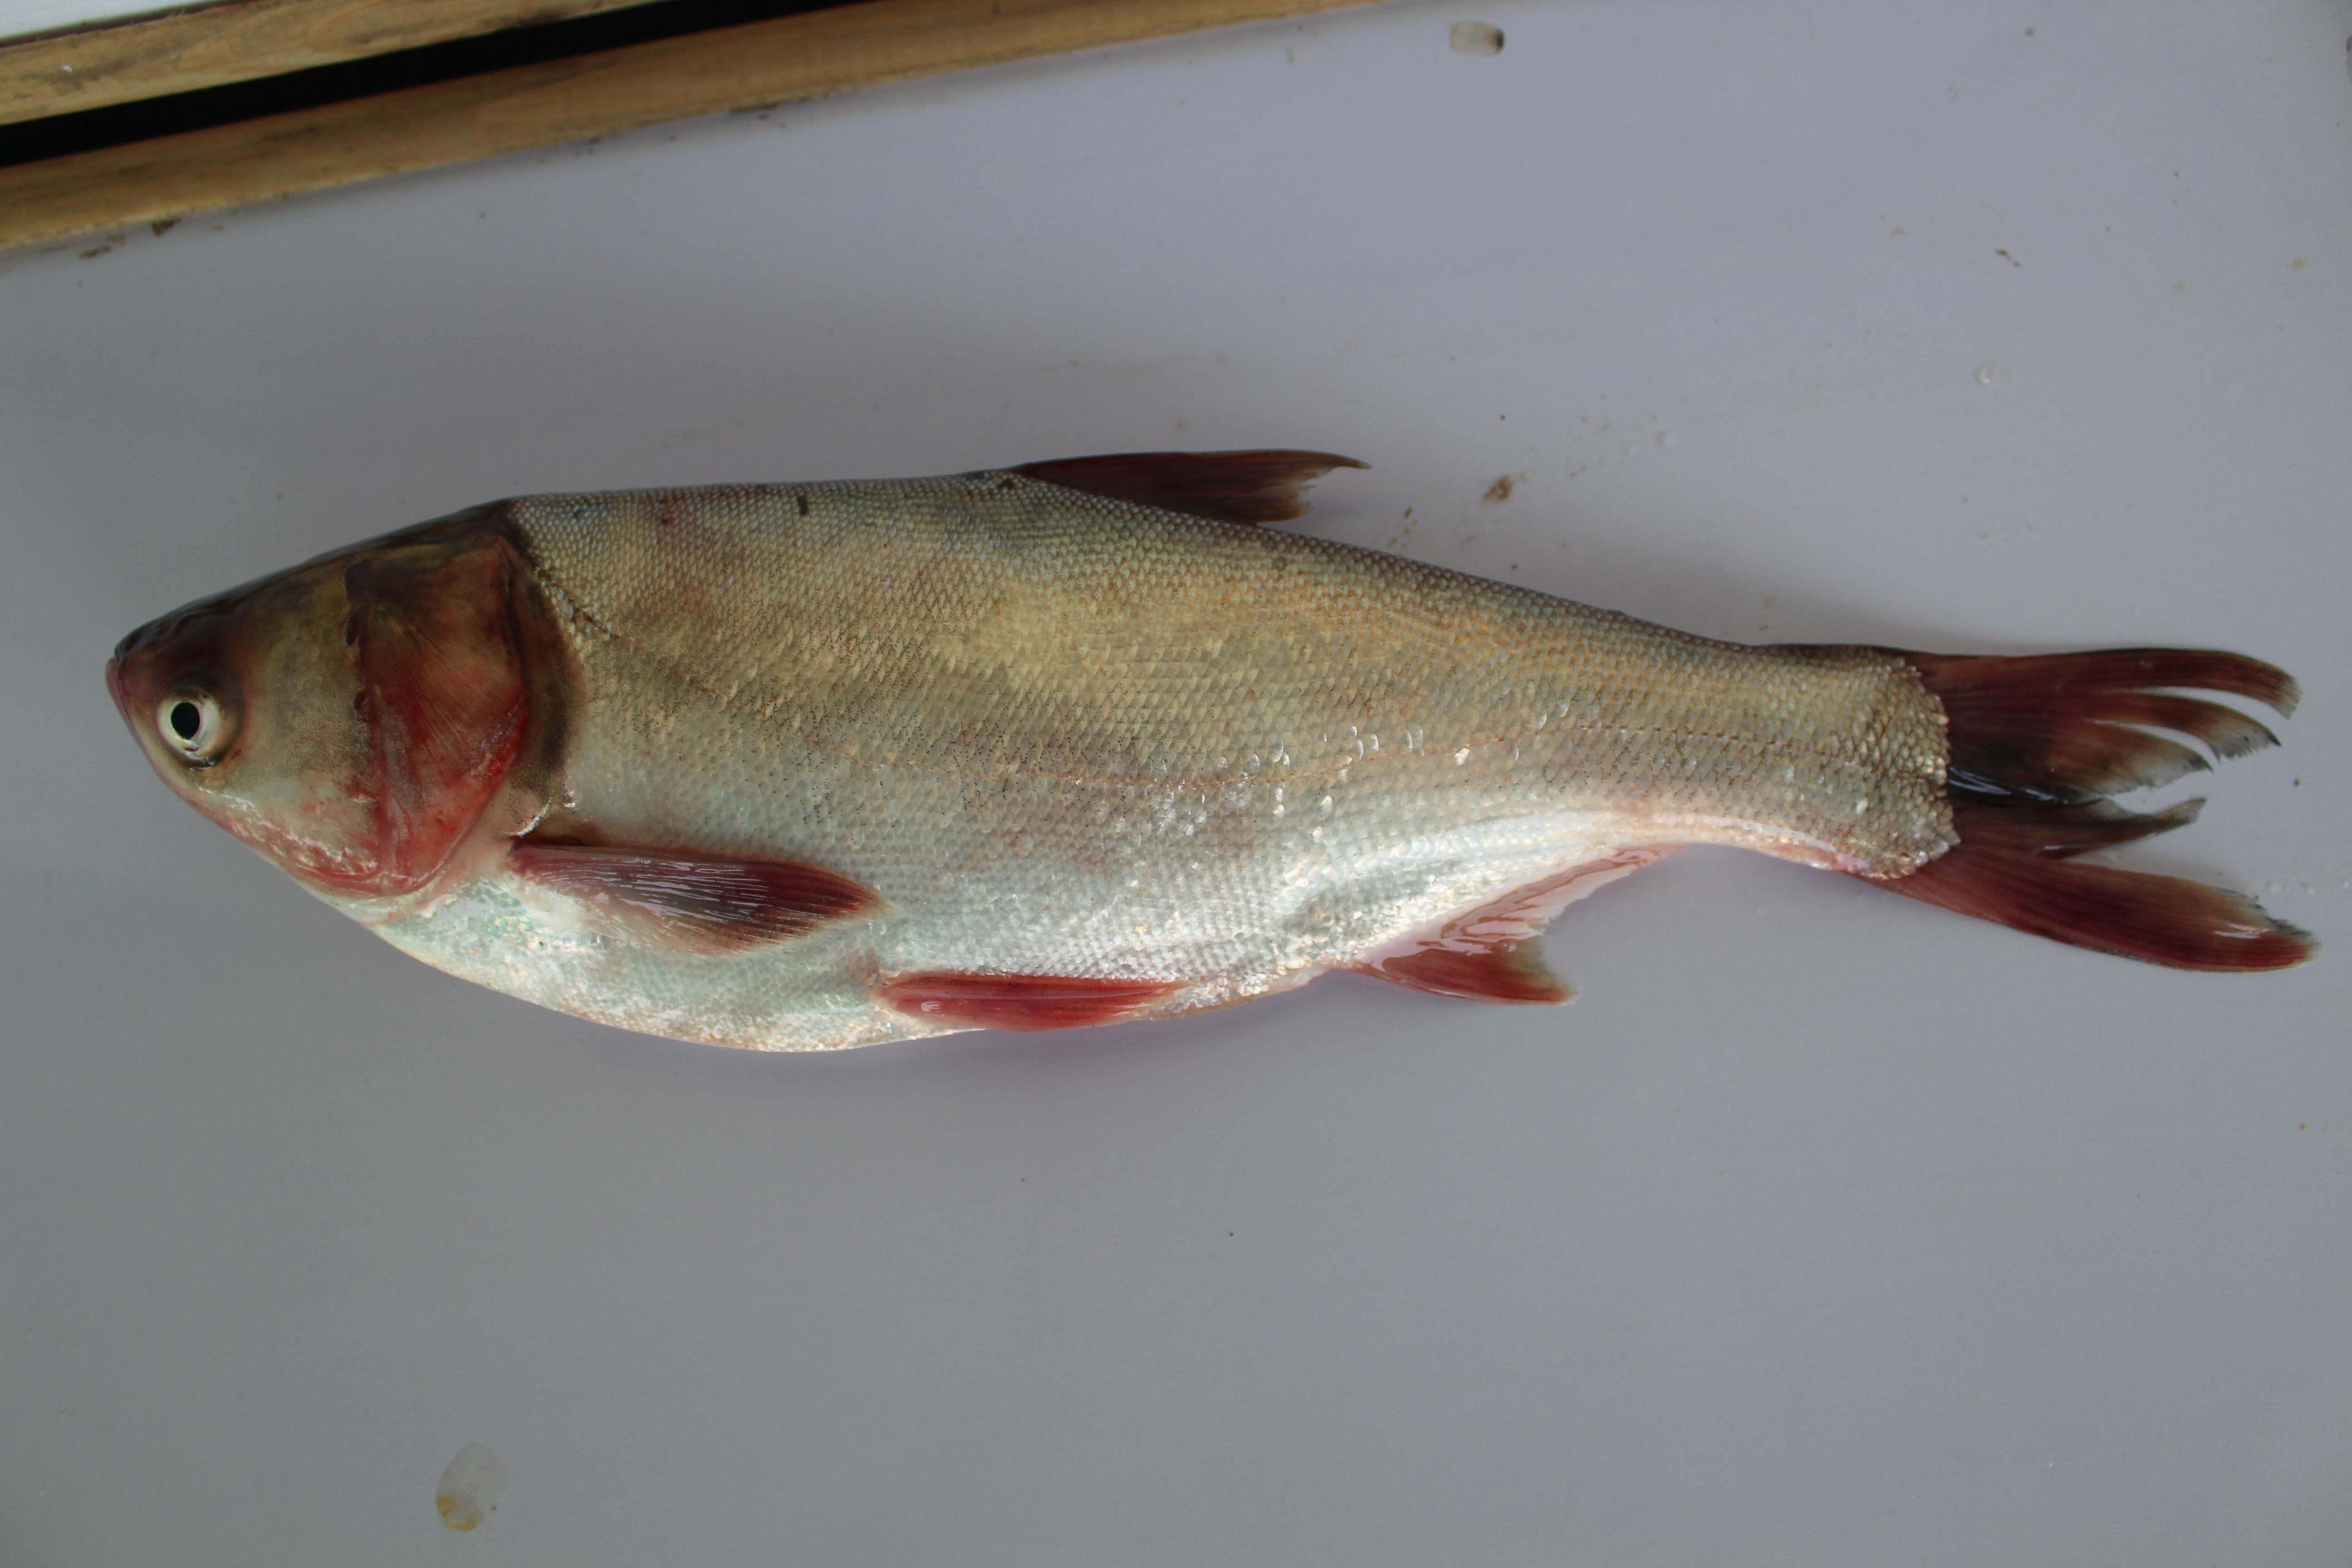Silver Carp: (84, 408, 2341, 1074)
